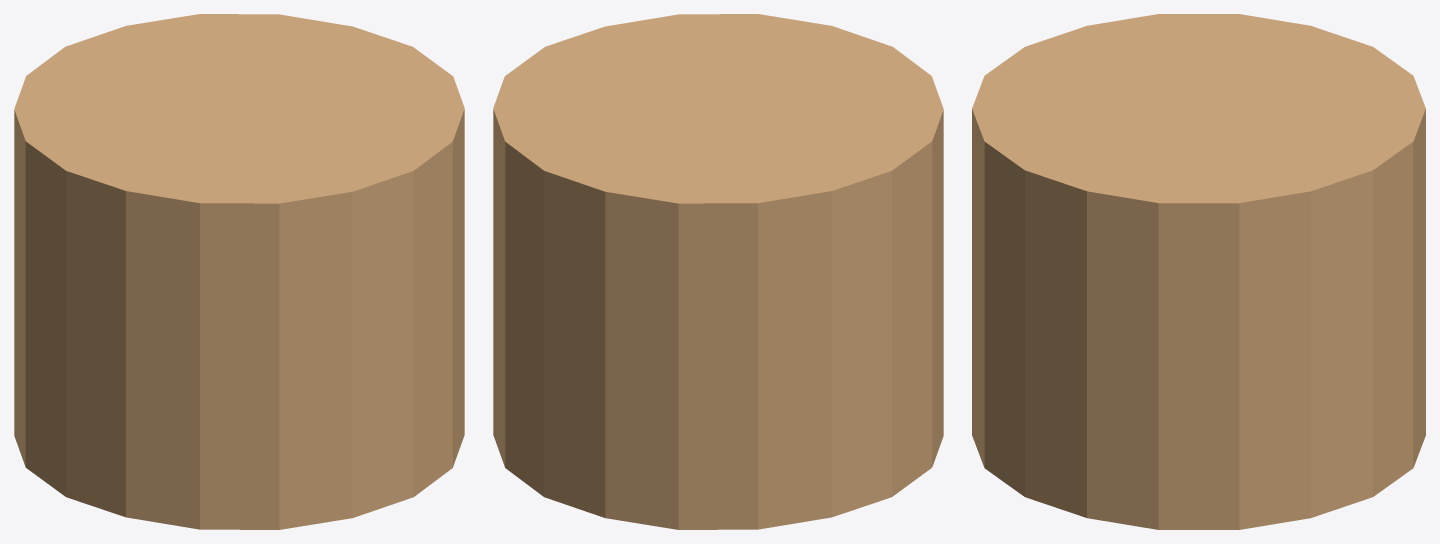
Rendered from slab_pipes_supply__water_heater__ef7813b2.glb.
The picture shows the model from 3 angles, left to right: view 1: azimuth 30°, elevation 25°; view 2: azimuth 150°, elevation 25°; view 3: azimuth 270°, elevation 25°; orthographic projection.
Parts seen in each view (by area): view 1: cap_recirc_repipe; view 2: cap_recirc_repipe; view 3: cap_recirc_repipe.
Part boxes in pixels (box(x1,y1,x2,y2)): cap_recirc_repipe: box(14, 14, 464, 529); cap_recirc_repipe: box(493, 14, 943, 529); cap_recirc_repipe: box(972, 14, 1425, 529).
Size of the model in its own units: 0.0176 by 0.0142 by 0.0178.
